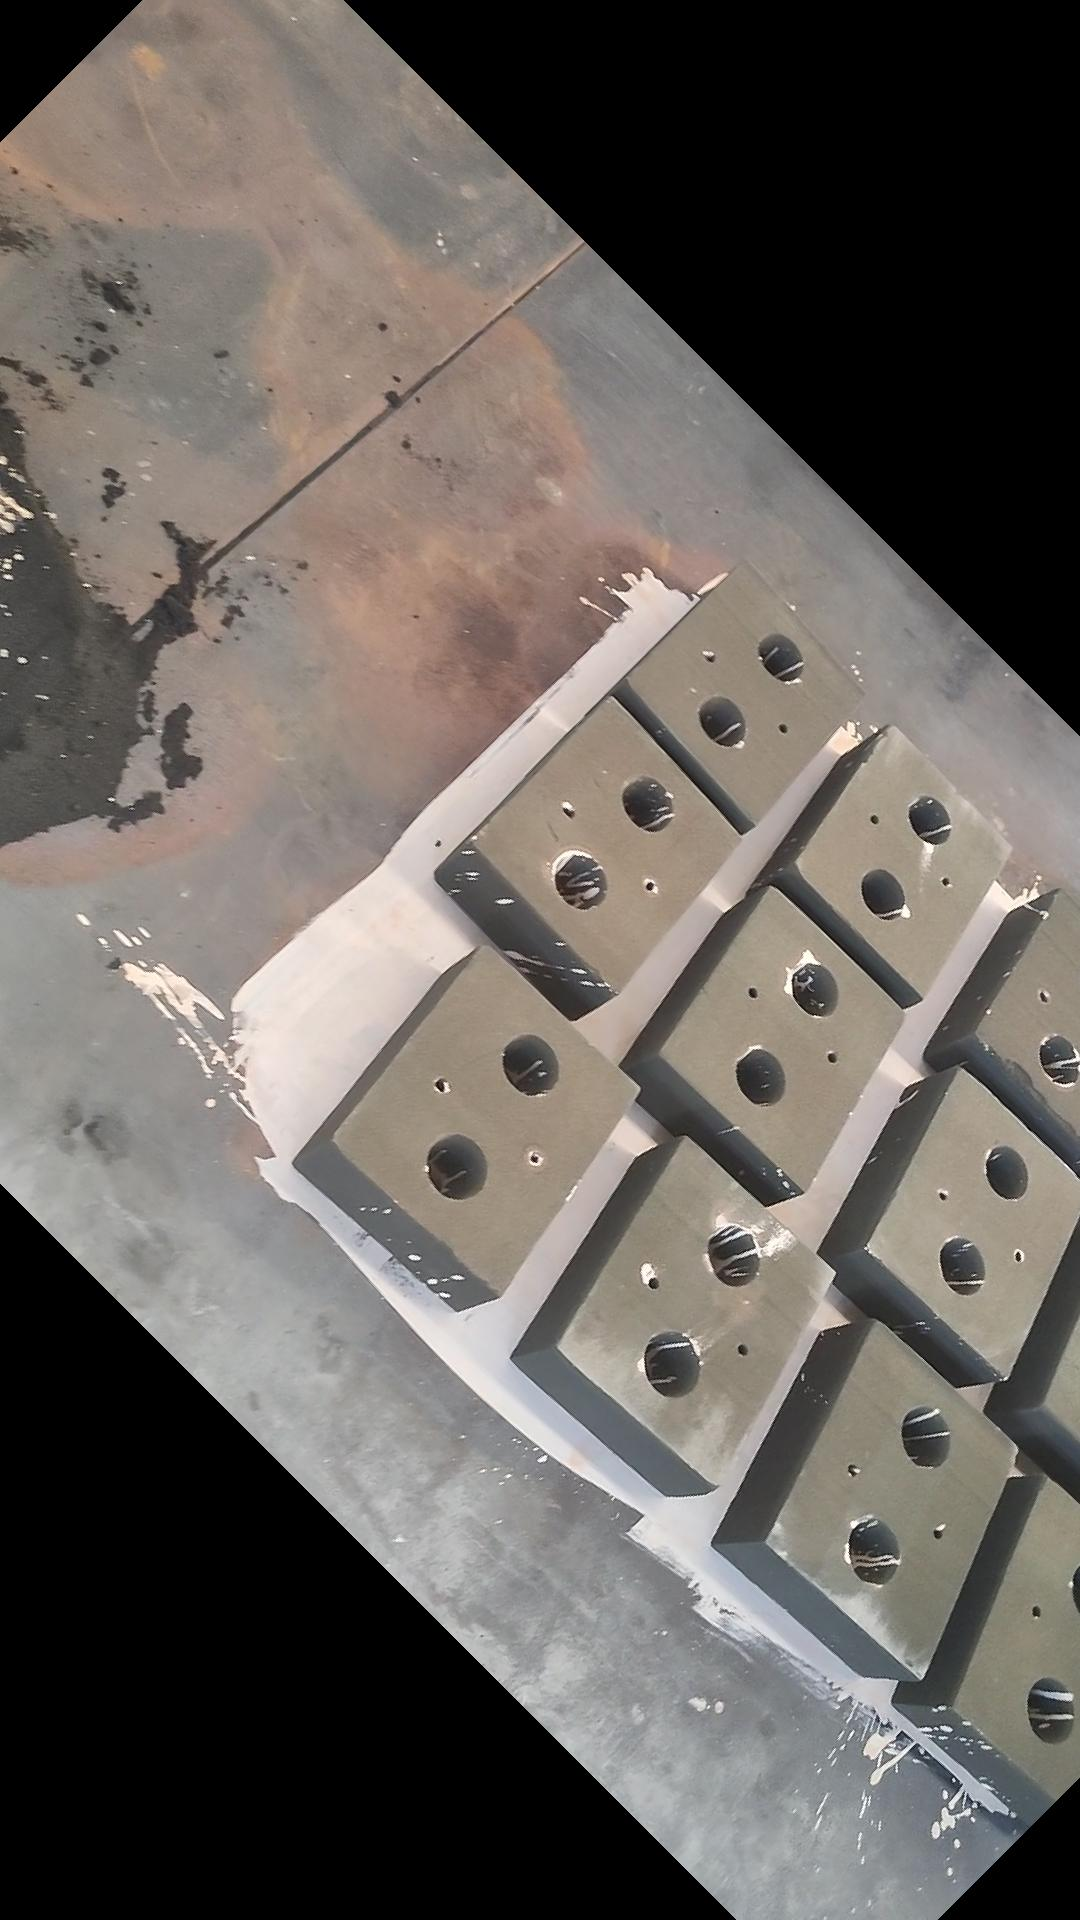pouring hole: (426, 1135, 487, 1200), (644, 1331, 702, 1396), (847, 1515, 899, 1586), (502, 1034, 559, 1097), (1026, 1677, 1076, 1745), (551, 851, 607, 909), (901, 1404, 951, 1468), (708, 1226, 760, 1286), (939, 1236, 986, 1296), (736, 1047, 785, 1105), (622, 777, 673, 832), (698, 694, 746, 748), (791, 963, 839, 1017), (858, 868, 905, 920), (986, 1145, 1029, 1201), (907, 794, 952, 845), (757, 633, 802, 680), (1038, 1034, 1077, 1087), (1069, 1561, 1080, 1609)
